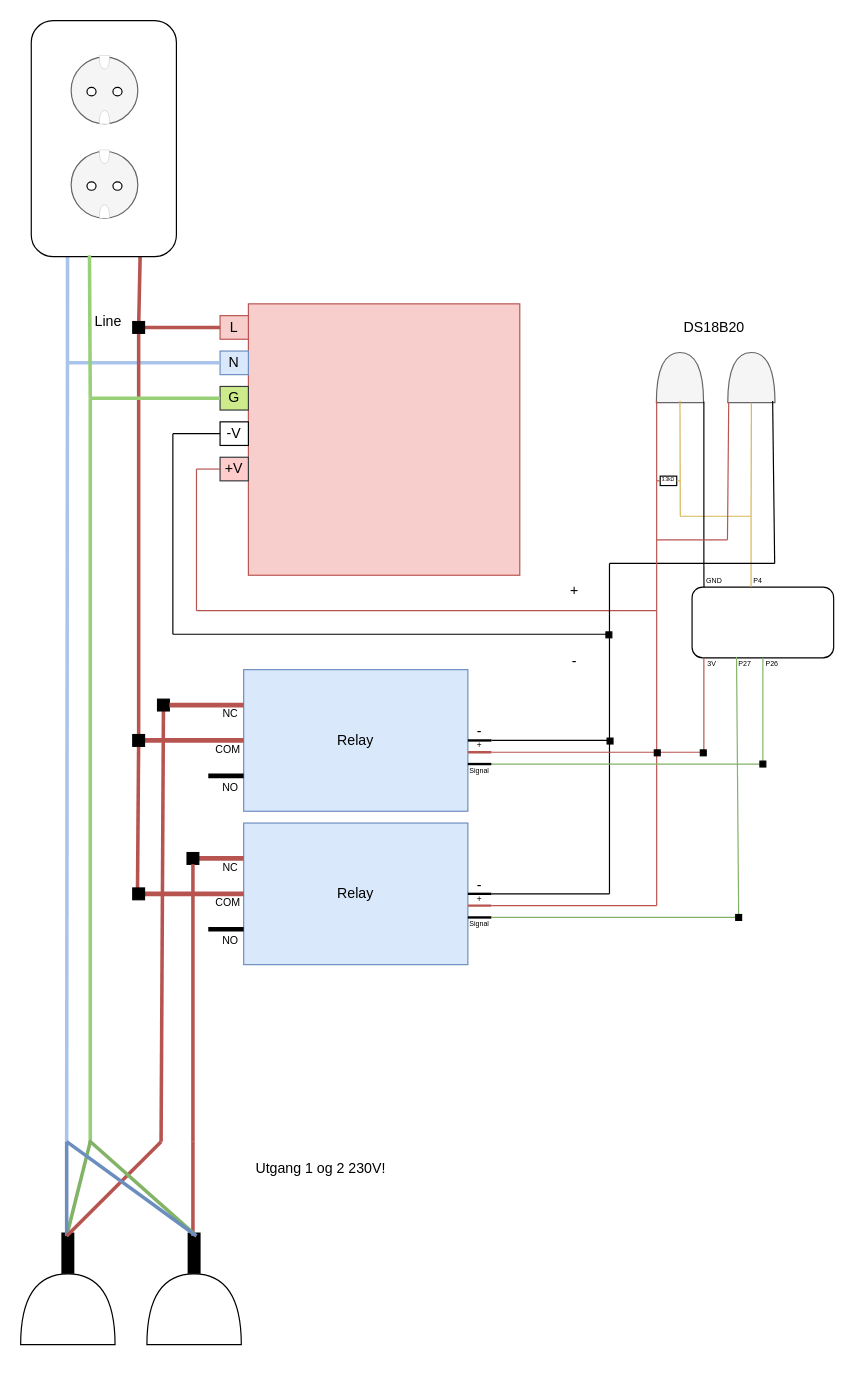
This 854x1395 diagram has some shape labels left out. The centre of each missing label's shape, as x and y in pixels:
"ESP32" belongs at (x=762, y=622).
"Power supply" belongs at (x=383, y=439).
